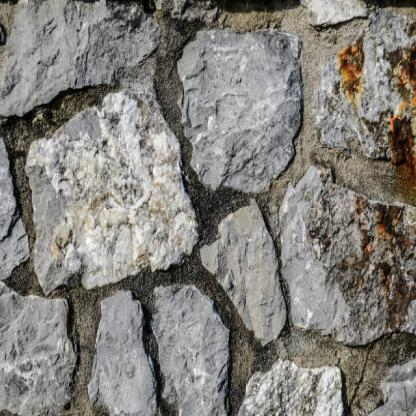Sedimentary_Limestone: (30, 80, 192, 302), (187, 23, 304, 193), (206, 204, 286, 352), (151, 278, 234, 415), (0, 291, 72, 415), (236, 360, 354, 415)
